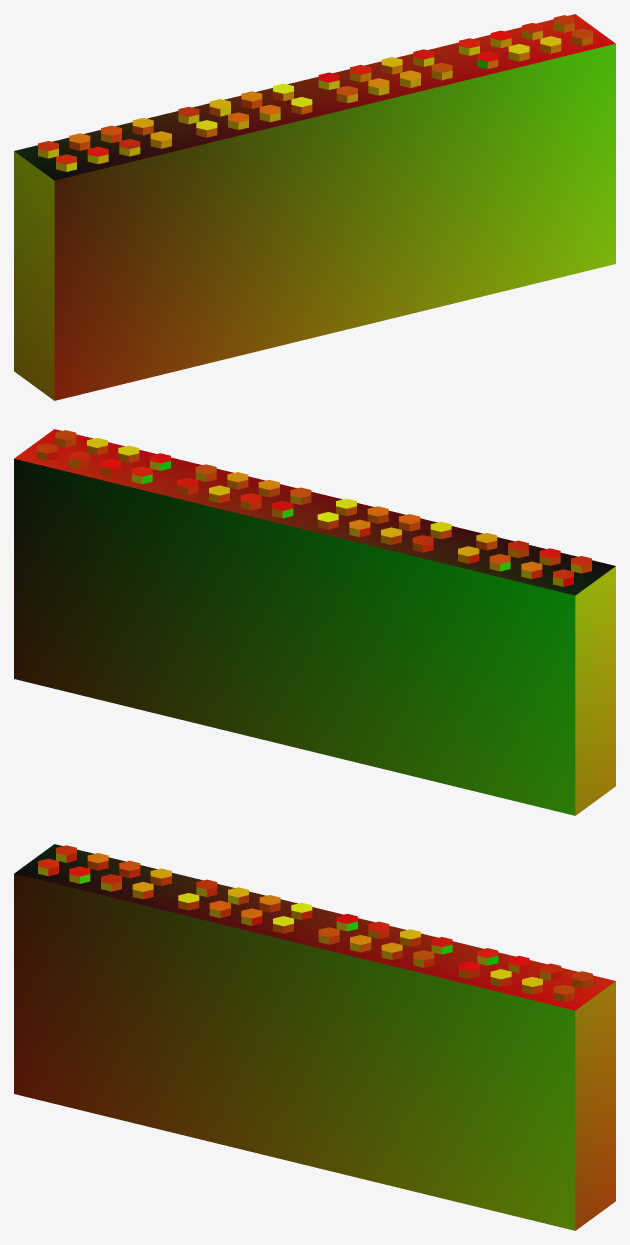
File: DEGO_4x5.fbx
3 renders of one model, top to bottom at view 1: azimuth 30°, elevation 25°; view 2: azimuth 150°, elevation 25°; view 3: azimuth 330°, elevation 25°, orthographic.
Visible parts, largest first — view 1: 4x5_top_grid; view 2: 4x5_top_grid; view 3: 4x5_top_grid.
Part boxes in pixels (x1,y1,x2,y2): 4x5_top_grid: [14, 14, 615, 400]; 4x5_top_grid: [14, 429, 615, 815]; 4x5_top_grid: [14, 844, 615, 1230].
Bounding box in the file's own units: 1280 × 496 × 160.
